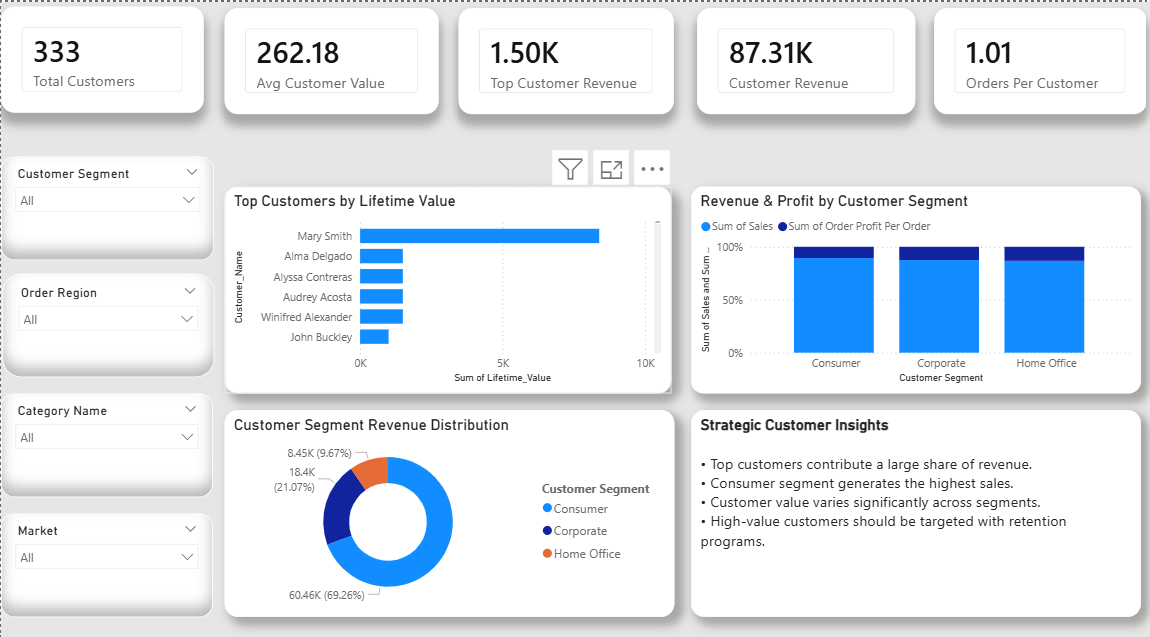

The page's visual inventory and layout, read from the dashboard file:
{"tool":"powerbi","page":{"name":"Customer Intelligence","canvas":[1280,720],"ordinal":1},"visuals":[{"type":"cardVisual","fields":{"Data":["supply_chain_data.Total Customers"]},"box":[0,4.3,225.1,118.2],"z":0},{"type":"cardVisual","fields":{"Data":["supply_chain_data.Avg Customer Value"]},"box":[247.7,7,238,118.2],"z":1000},{"type":"cardVisual","fields":{"Data":["vw_customer_lifetime_value.Top Customer Revenue"]},"box":[508.4,7,239.6,118.2],"z":2000},{"type":"cardVisual","fields":{"Data":["vw_customer_lifetime_value.Customer Revenue"]},"box":[774,6.5,242.9,118.2],"z":3000},{"type":"clusteredBarChart","title":"Top Customers by Lifetime Value","fields":{"Y":["Sum(vw_customer_lifetime_value.Lifetime_Value)"],"Category":["vw_customer_lifetime_value.Customer_Name"]},"box":[248.3,205,496.7,230],"z":4000},{"type":"donutChart","title":"Customer Segment Revenue Distribution","fields":{"Category":["supply_chain_data.Customer Segment"],"Y":["Sum(supply_chain_data.Sales)"]},"box":[248.3,453.3,500,230],"z":5000},{"type":"hundredPercentStackedColumnChart","title":"Revenue & Profit by Customer Segment","fields":{"Category":["supply_chain_data.Customer Segment"],"Y":["Sum(supply_chain_data.Sales)","Sum(supply_chain_data.Order Profit Per Order)"]},"box":[766.7,205,500,230],"z":6000},{"type":"cardVisual","fields":{"Data":["supply_chain_data.Orders Per Customer"]},"box":[1036.3,6.5,236.4,118.2],"z":7000},{"type":"slicer","fields":{"Values":["supply_chain_data.Customer Segment"]},"box":[0,171.7,236.7,115],"z":8000},{"type":"slicer","fields":{"Values":["supply_chain_data.Order Region"]},"box":[1.7,301.7,235,115],"z":9000},{"type":"slicer","fields":{"Values":["supply_chain_data.Category Name"]},"box":[0,435,235,115],"z":10000},{"type":"slicer","fields":{"Values":["supply_chain_data.Market"]},"box":[0,568.3,235,115],"z":11000},{"type":"textbox","title":"Strategic Customer Insights","box":[766.7,453.3,500,230],"z":12000}]}

Visuals, with their boxes in screenshot pixels (x1, y1, x2, y2), scaled from the page's 1280x720 canvas onto the 1150x637 screenshot:
cardVisual - supply_chain_data.Total Customers: rect(0, 4, 202, 108)
cardVisual - supply_chain_data.Avg Customer Value: rect(223, 6, 436, 111)
cardVisual - vw_customer_lifetime_value.Top Customer Revenue: rect(457, 6, 672, 111)
cardVisual - vw_customer_lifetime_value.Customer Revenue: rect(695, 6, 914, 110)
"Top Customers by Lifetime Value" clusteredBarChart: rect(223, 181, 669, 385)
"Customer Segment Revenue Distribution" donutChart: rect(223, 401, 672, 605)
"Revenue & Profit by Customer Segment" hundredPercentStackedColumnChart: rect(689, 181, 1138, 385)
cardVisual - supply_chain_data.Orders Per Customer: rect(931, 6, 1143, 110)
slicer - supply_chain_data.Customer Segment: rect(0, 152, 213, 254)
slicer - supply_chain_data.Order Region: rect(2, 267, 213, 369)
slicer - supply_chain_data.Category Name: rect(0, 385, 211, 487)
slicer - supply_chain_data.Market: rect(0, 503, 211, 605)
"Strategic Customer Insights" textbox: rect(689, 401, 1138, 605)
